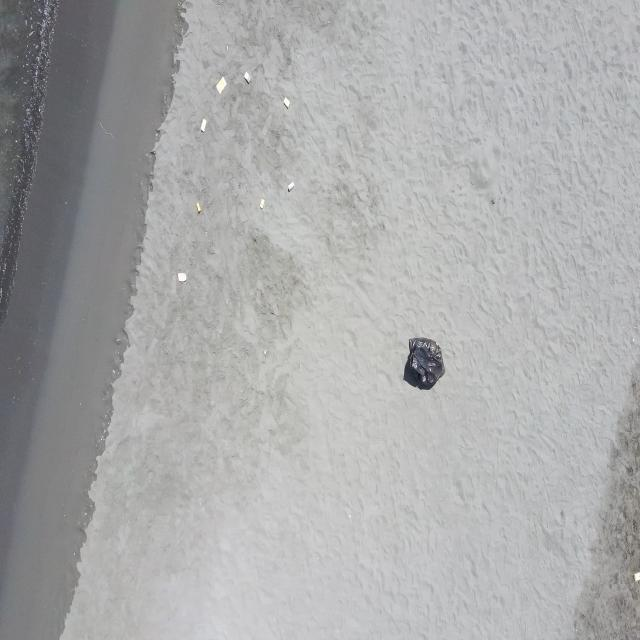Garbage: (404, 337, 444, 387), (216, 75, 226, 92), (176, 272, 186, 280), (200, 119, 206, 131), (243, 71, 249, 83), (287, 180, 293, 191), (196, 201, 201, 212), (633, 572, 639, 580), (283, 96, 287, 108), (259, 198, 263, 207)
